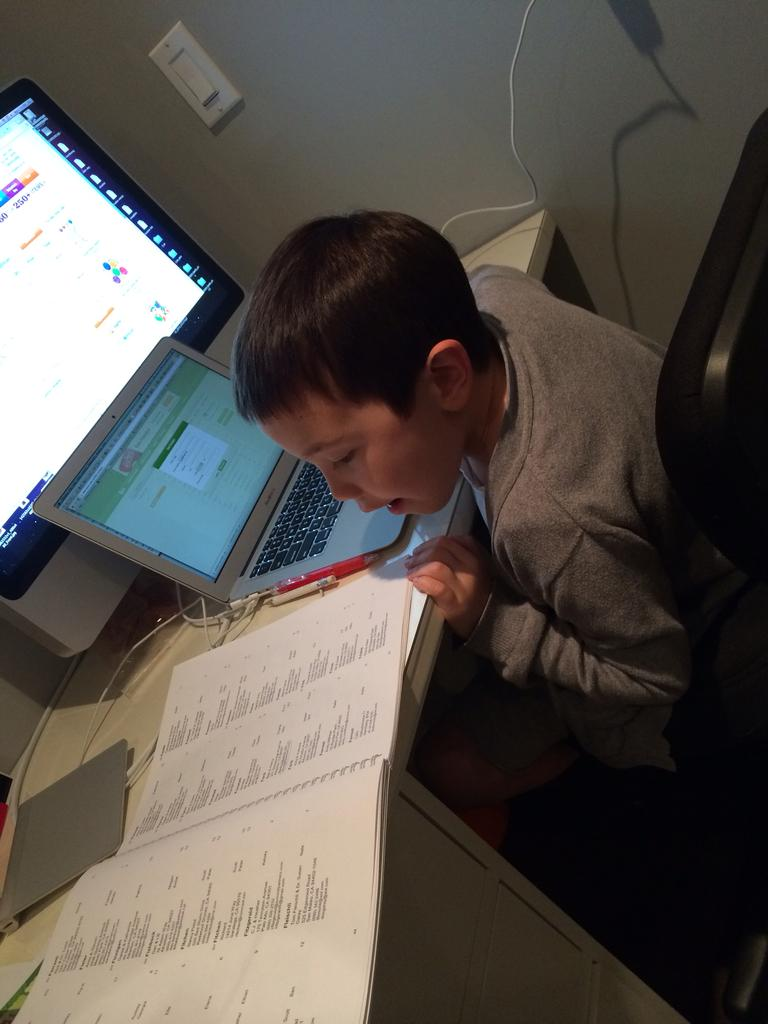Computer-monitor: (0, 84, 264, 674)
